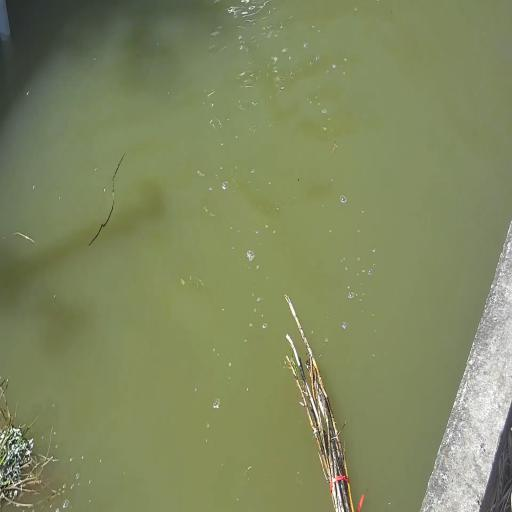twig: (280, 289, 364, 512), (0, 382, 58, 512)
